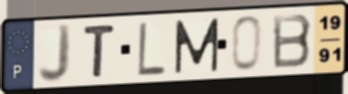0: (229, 12, 267, 74)
B: (271, 12, 314, 71)
J: (36, 22, 74, 85)
L: (136, 20, 168, 77)
M: (173, 16, 221, 76)
T: (81, 23, 117, 80)
